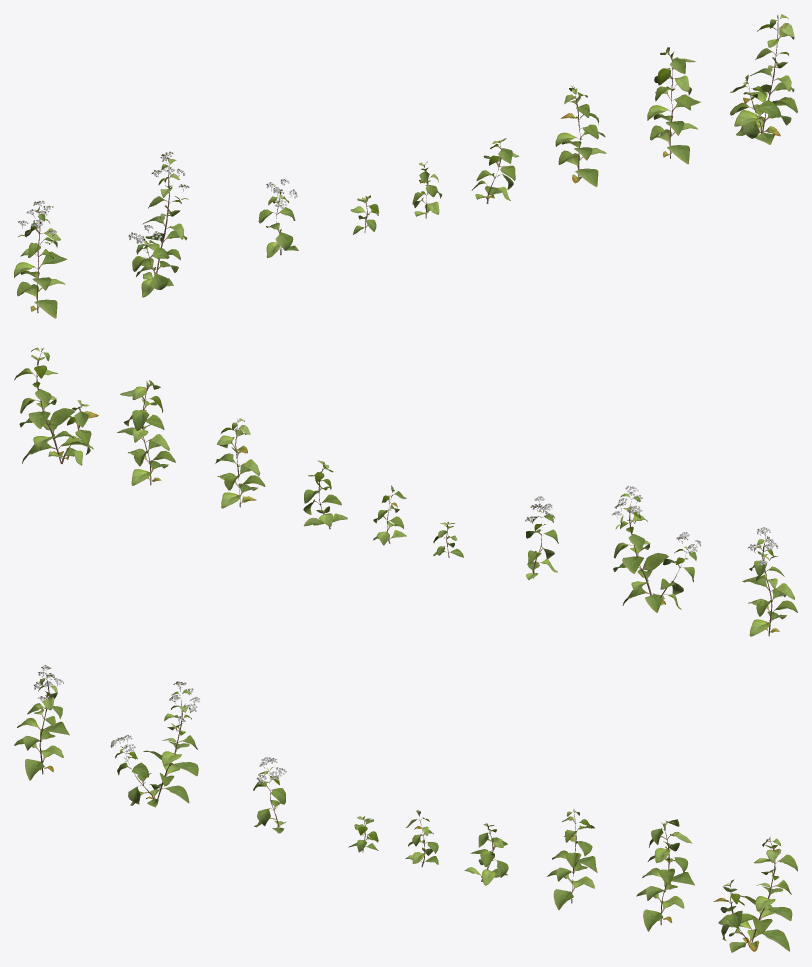
The model's file is shrub_01.glb.
3 views of the same model, one above another, from view 1: azimuth 30°, elevation 25°; view 2: azimuth 150°, elevation 25°; view 3: azimuth 330°, elevation 25° (orthographic). The views are drawn at different scales.
Visible parts, largest first — view 1: shrub_01_a; view 2: shrub_01_a; view 3: shrub_01_a.
Boxes of the visible parts, x1,y1,x2,y2 form: shrub_01_a: (14,14,797,318); shrub_01_a: (14,347,797,636); shrub_01_a: (14,665,797,952).
Size of the model in its own units: 2.59 by 0.3955 by 0.2182.
1 material, 1 textured.
